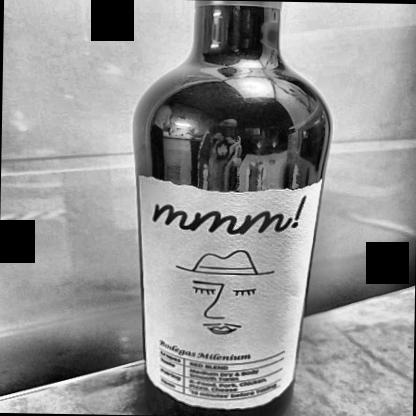umm: (129, 171, 320, 410)
